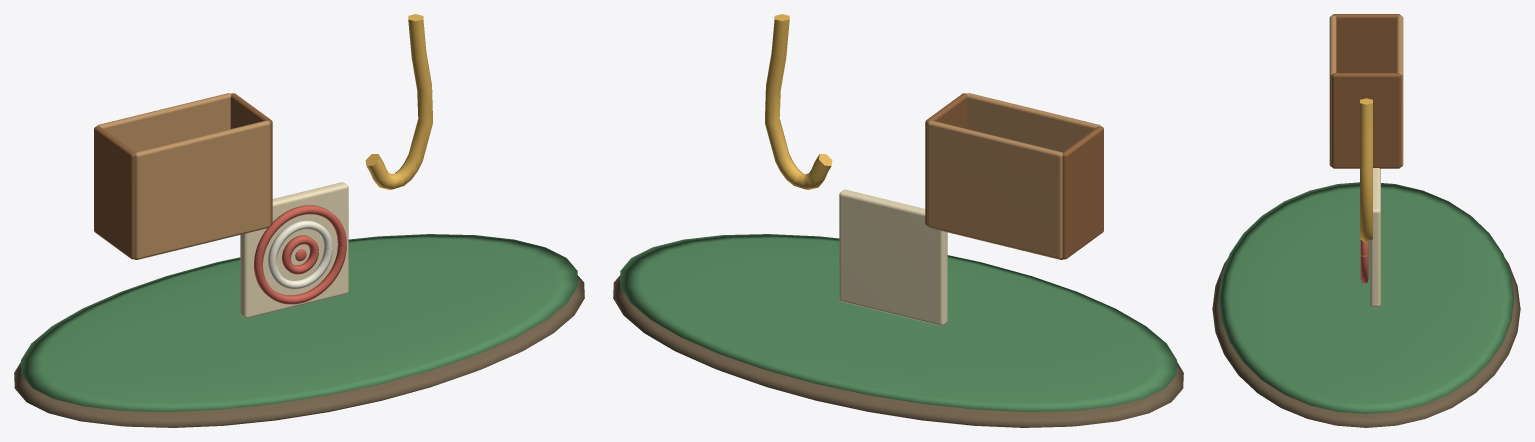
The model's file is complete-first-for-a-finished-goal.glb.
3 renders of one model, left to right at view 1: azimuth 30°, elevation 25°; view 2: azimuth 150°, elevation 25°; view 3: azimuth 270°, elevation 25°, orthographic. The views are drawn at different scales.
Visible parts, largest first — view 1: complete-first-for-a-finished-goal_surface_01, complete-first-for-a-finished-goal_surface_02, complete-first-for-a-finished-goal_surface_00, complete-first-for-a-finished-goal_surface_05, complete-first-for-a-finished-goal_surface_03, complete-first-for-a-finished-goal_surface_06, complete-first-for-a-finished-goal_surface_04, complete-first-for-a-finished-goal_surface_07; view 2: complete-first-for-a-finished-goal_surface_01, complete-first-for-a-finished-goal_surface_02, complete-first-for-a-finished-goal_surface_05, complete-first-for-a-finished-goal_surface_00, complete-first-for-a-finished-goal_surface_03, complete-first-for-a-finished-goal_surface_04; view 3: complete-first-for-a-finished-goal_surface_01, complete-first-for-a-finished-goal_surface_03, complete-first-for-a-finished-goal_surface_00, complete-first-for-a-finished-goal_surface_04, complete-first-for-a-finished-goal_surface_02, complete-first-for-a-finished-goal_surface_05, complete-first-for-a-finished-goal_surface_06.
Part boxes in pixels (x1,y1,x2,y2): complete-first-for-a-finished-goal_surface_01: [21, 234, 577, 411]; complete-first-for-a-finished-goal_surface_02: [97, 93, 270, 259]; complete-first-for-a-finished-goal_surface_00: [14, 275, 584, 427]; complete-first-for-a-finished-goal_surface_05: [240, 182, 348, 318]; complete-first-for-a-finished-goal_surface_03: [94, 93, 272, 259]; complete-first-for-a-finished-goal_surface_06: [254, 205, 346, 304]; complete-first-for-a-finished-goal_surface_04: [365, 14, 432, 189]; complete-first-for-a-finished-goal_surface_07: [268, 220, 332, 289]; complete-first-for-a-finished-goal_surface_01: [620, 234, 1176, 411]; complete-first-for-a-finished-goal_surface_02: [927, 93, 1100, 259]; complete-first-for-a-finished-goal_surface_05: [839, 189, 947, 325]; complete-first-for-a-finished-goal_surface_00: [613, 275, 1183, 427]; complete-first-for-a-finished-goal_surface_03: [925, 93, 1103, 259]; complete-first-for-a-finished-goal_surface_04: [765, 14, 832, 189]; complete-first-for-a-finished-goal_surface_01: [1218, 182, 1514, 414]; complete-first-for-a-finished-goal_surface_03: [1331, 14, 1401, 168]; complete-first-for-a-finished-goal_surface_00: [1212, 258, 1520, 427]; complete-first-for-a-finished-goal_surface_04: [1360, 98, 1372, 242]; complete-first-for-a-finished-goal_surface_02: [1329, 15, 1403, 166]; complete-first-for-a-finished-goal_surface_05: [1370, 168, 1380, 307]; complete-first-for-a-finished-goal_surface_06: [1360, 240, 1368, 283].
Size of the model in its own units: 4.56 by 2.44 by 2.5.
